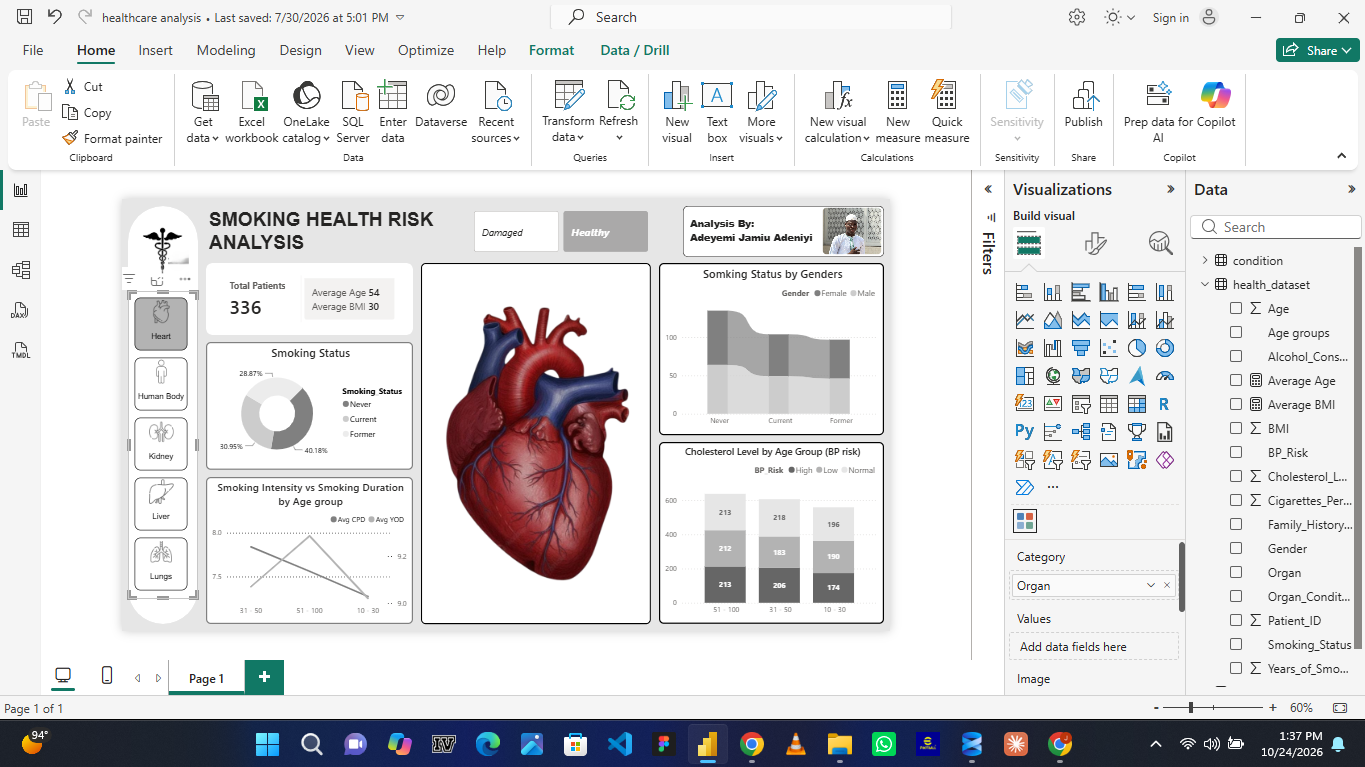

This screenshot's page, from the dashboard's own definition file:
{"tool":"powerbi","page":{"name":"Page 1","canvas":[1280,720],"ordinal":0},"visuals":[{"type":"shape","box":[10,11.7,116.7,696.7],"z":0},{"type":"shape","box":[140,106.7,345,120],"z":1000},{"type":"advancedSlicerVisual","fields":{"Values":["condition.Organ_Condition"]},"box":[581.7,15,300,78.3],"z":2000},{"type":"image","box":[498.3,106.7,383.3,601.7],"z":3000},{"type":"ChicletSlicer1448559807354","fields":{"Category":["Organs.Organ"],"Image":["Organs.Icon_URL"]},"box":[10.1,154.1,116.6,512.6],"z":4000},{"type":"cardVisual","fields":{"Data":["Count(health_dataset.Patient_ID)"]},"box":[150,110,326.7,113.3],"z":5000},{"type":"donutChart","title":"Smoking Status","fields":{"Category":["health_dataset.Smoking_Status"],"Y":["CountNonNull(health_dataset.Smoking_Status)"]},"box":[140,238.3,345,213.3],"z":6000},{"type":"lineChart","title":"Smoking Intensity vs Smoking Duration by Age group","fields":{"Category":["health_dataset.Age groups"],"Y":["Avg(health_dataset.Cigarettes_Per_Day)"],"Y2":["Avg(health_dataset.Years_of_Smoking)"]},"box":[140,463.3,345,245],"z":7000},{"type":"ribbonChart","title":"Somking Status by Genders","fields":{"Category":["health_dataset.Smoking_Status"],"Series":["health_dataset.Gender"],"Y":["CountNonNull(health_dataset.Gender)"]},"box":[895,106.7,375,286.7],"z":8000},{"type":"columnChart","title":"Cholesterol Level by Age Group (BP risk)","fields":{"Series":["health_dataset.BP_Risk"],"Category":["health_dataset.Age groups"],"Y":["Avg(health_dataset.Cholesterol_Level)"]},"box":[895,405,375,303.3],"z":9000},{"type":"image","box":[23.3,38.3,88.3,93.3],"z":10000},{"type":"textbox","box":[140,11.7,403.3,85],"z":11000},{"type":"shape","box":[935,11.7,335,85],"z":11500},{"type":"image","box":[1166,14,100,80],"z":12000},{"type":"textbox","box":[942,23.3,218.3,61.7],"z":14000}]}

Visuals, with their boxes on the page's 1280x720 design canvas (x1, y1, x2, y2). These are canvas units, not pixel positions in the 1365x767 screenshot, which may show the page scaled, cropped or inside an application window:
shape: 10 12 127 708
shape: 140 107 485 227
advancedSlicerVisual - condition.Organ_Condition: 582 15 882 93
image: 498 107 882 708
ChicletSlicer1448559807354 - Organs.Organ x Organs.Icon_URL: 10 154 127 667
cardVisual - Count(health_dataset.Patient_ID): 150 110 477 223
"Smoking Status" donutChart: 140 238 485 452
"Smoking Intensity vs Smoking Duration by Age group" lineChart: 140 463 485 708
"Somking Status by Genders" ribbonChart: 895 107 1270 393
"Cholesterol Level by Age Group (BP risk)" columnChart: 895 405 1270 708
image: 23 38 112 132
textbox: 140 12 543 97
shape: 935 12 1270 97
image: 1166 14 1266 94
textbox: 942 23 1160 85
